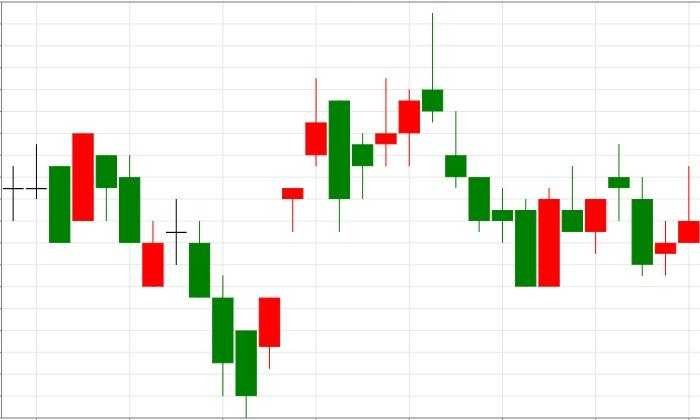bullish_engulfing_rise: (422, 13, 560, 287)
shooting_star_fall: (352, 13, 444, 198)
